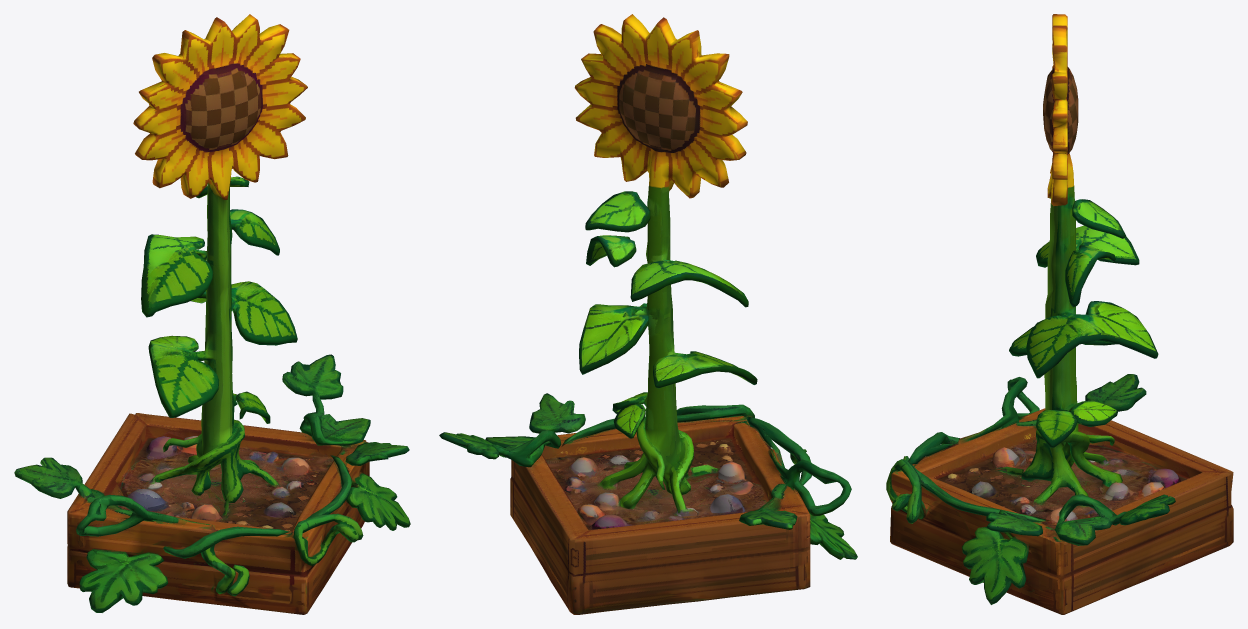
Rendered from sunflower.glb.
The picture shows the model from 3 angles, left to right: view 1: azimuth 30°, elevation 25°; view 2: azimuth 150°, elevation 25°; view 3: azimuth 270°, elevation 25°; orthographic projection. The views are drawn at different scales.
Bounding box in the file's own units: 1.26 × 1.91 × 1.15.
Materials: 1 (1 with a texture image).
